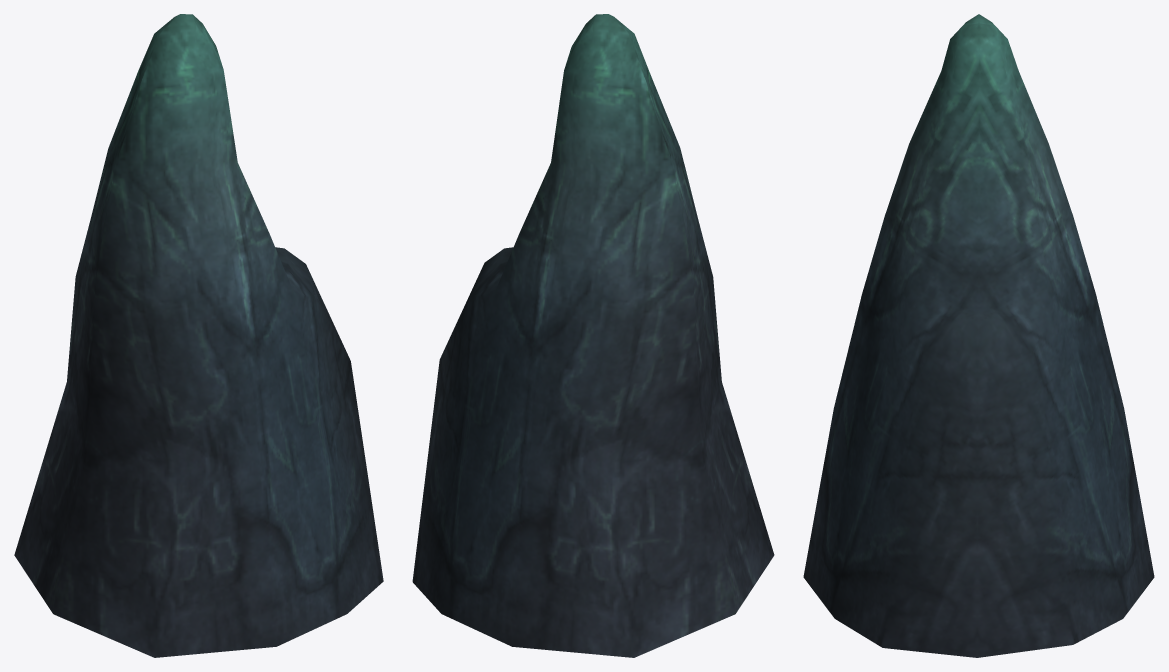
Rendered from M3_R_rushizhu004.FBX.
The picture shows the model from 3 angles, left to right: view 1: azimuth 30°, elevation 25°; view 2: azimuth 150°, elevation 25°; view 3: azimuth 270°, elevation 25°; orthographic projection.
Parts seen in each view (by area): view 1: M3_R_rushizhu004; view 2: M3_R_rushizhu004; view 3: M3_R_rushizhu004.
Boxes of the visible parts, x1,y1,x2,y2 form: M3_R_rushizhu004: (14, 14, 383, 657); M3_R_rushizhu004: (412, 14, 774, 657); M3_R_rushizhu004: (803, 14, 1154, 657).
Bounding box in the file's own units: 129 × 232 × 132.
